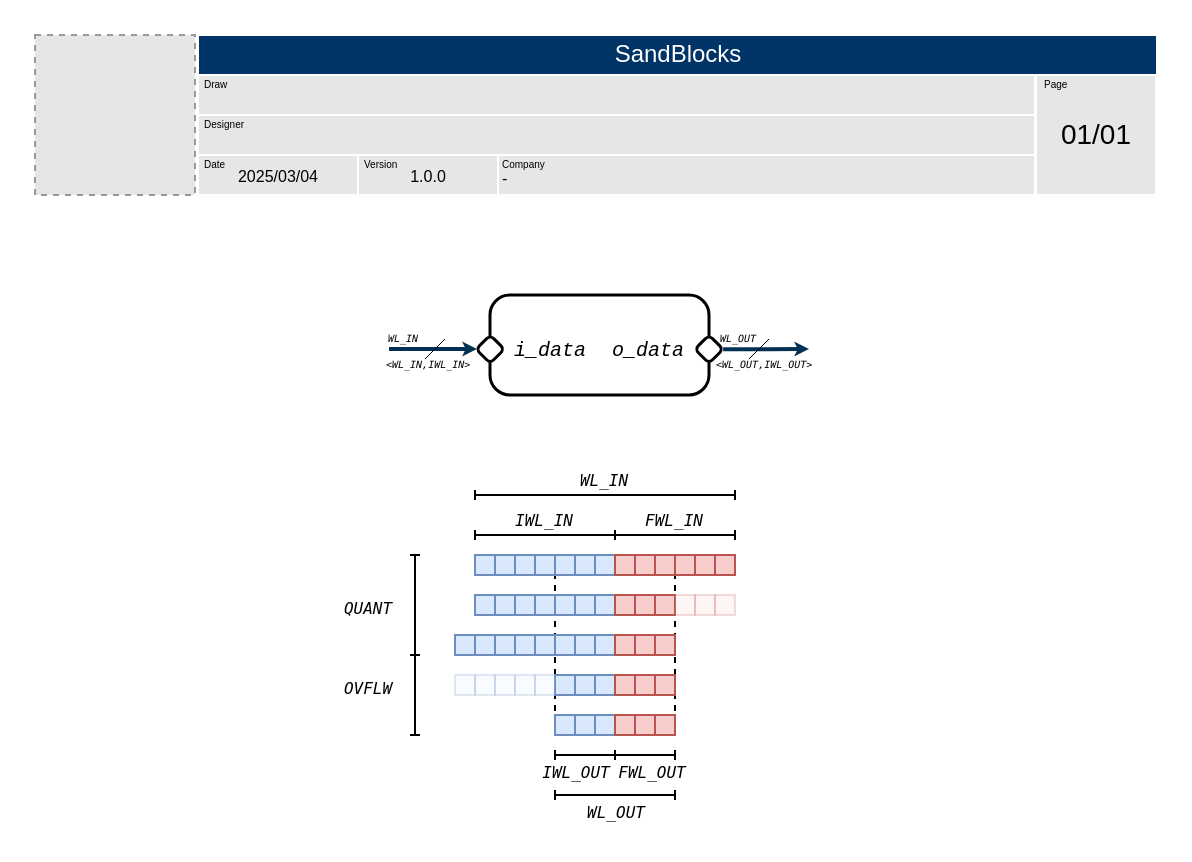
This 1192x862 diagram has some shape labels left out. Grey dashed boxes stand in for pictures. The shapes that lost their labels are listed below. From the top down, each one's box as (x1, y1, x2, y2) in pixels, then its label:
(196, 73, 1035, 115): FXPRND microarchitecture
(196, 113, 1035, 155): Thiago M. de Oliveira <thiagomoraisee@gmail.com>
(488, 293, 710, 396): fxprnd
